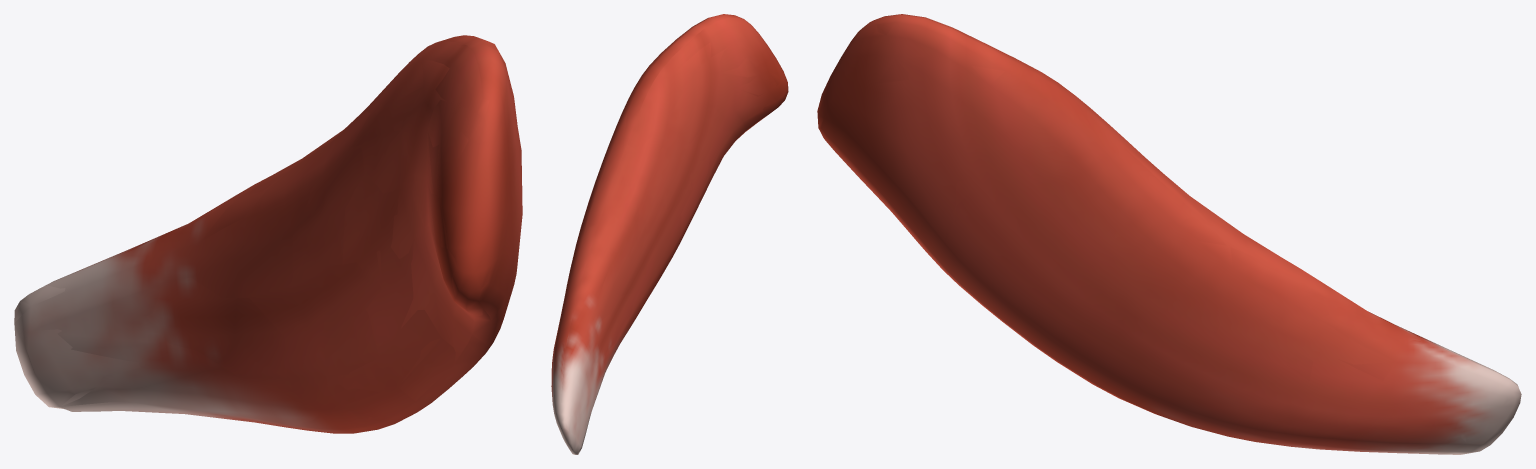
Rendered from L Triceps Brachii Lateral Head.fbx.
The picture shows the model from 3 angles, left to right: view 1: azimuth 30°, elevation 25°; view 2: azimuth 150°, elevation 25°; view 3: azimuth 270°, elevation 25°; orthographic projection. The views are drawn at different scales.
Visible parts, largest first — view 1: L Triceps Brachii Lateral Head low, L Triceps Brachii Lateral Head; view 2: L Triceps Brachii Lateral Head low, L Triceps Brachii Lateral Head; view 3: L Triceps Brachii Lateral Head, L Triceps Brachii Lateral Head low.
Part boxes in pixels (x1,y1,x2,y2): L Triceps Brachii Lateral Head low: (14,39,521,433); L Triceps Brachii Lateral Head: (14,35,522,433); L Triceps Brachii Lateral Head low: (554,16,788,450); L Triceps Brachii Lateral Head: (551,14,788,454); L Triceps Brachii Lateral Head: (817,14,1521,454); L Triceps Brachii Lateral Head low: (818,14,1520,452).
Bounding box in the file's own units: 3.07 × 9.84 × 13.45.
